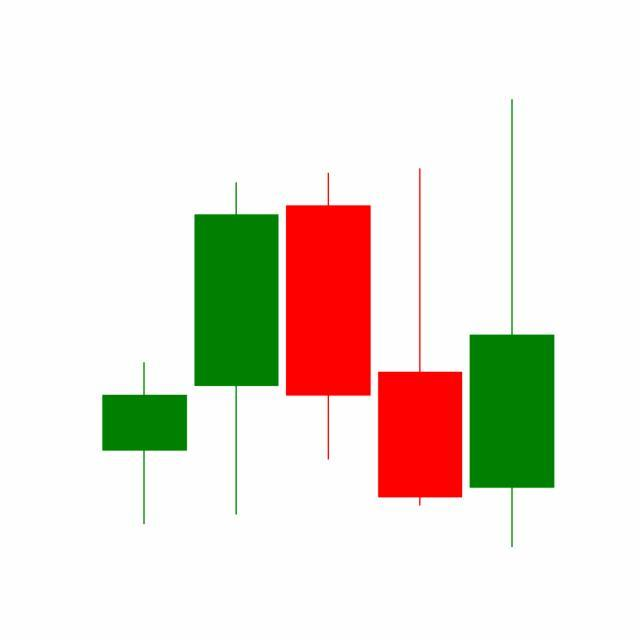Three Outside Up-Down: (190, 166, 467, 520)
